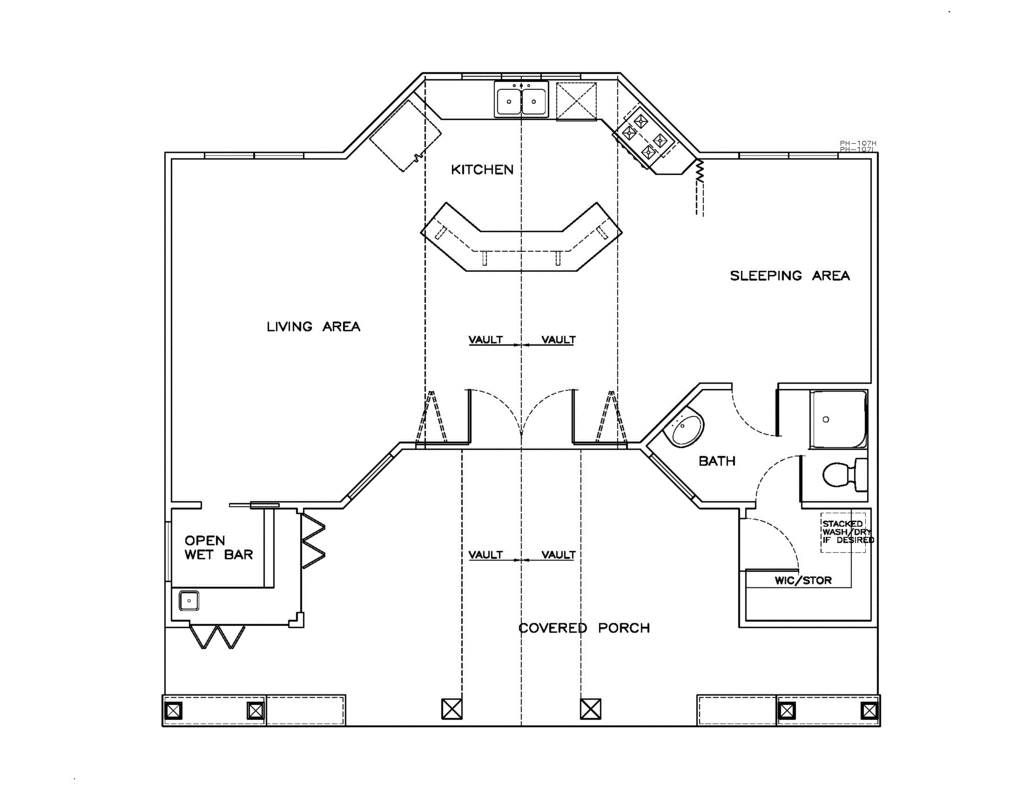door: (459, 385, 578, 449), (741, 512, 816, 576), (753, 456, 813, 514), (728, 380, 782, 442)
large_sink: (816, 451, 866, 496)
small_sink: (647, 404, 712, 451)
twin_sink: (491, 76, 553, 123)
window: (203, 148, 309, 167), (734, 149, 844, 163)
